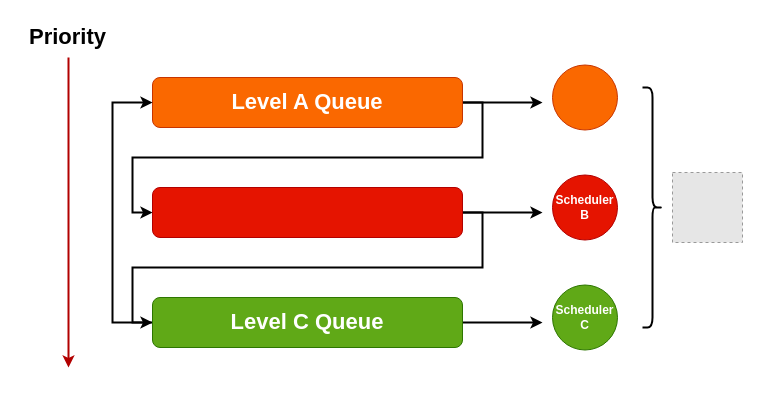
The diagram is 760 pixels wide and 393 high, and some of its shapes have lost their labels. Grey dashed boxes stand in for pictures. The shapes that lost their labels are listed below. From the top down, each one's centre as x and y in pixels, then its label:
the point at 585,97: Scheduler A
the point at 307,212: Level B Queue
